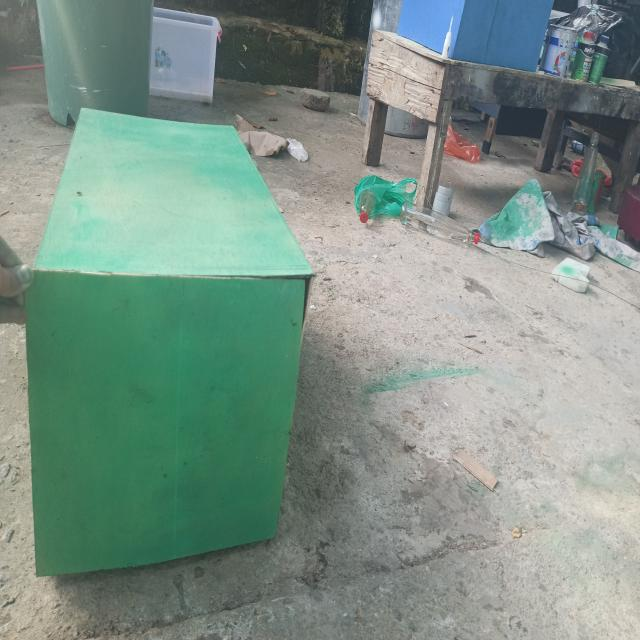green_box: (17, 77, 326, 595)
